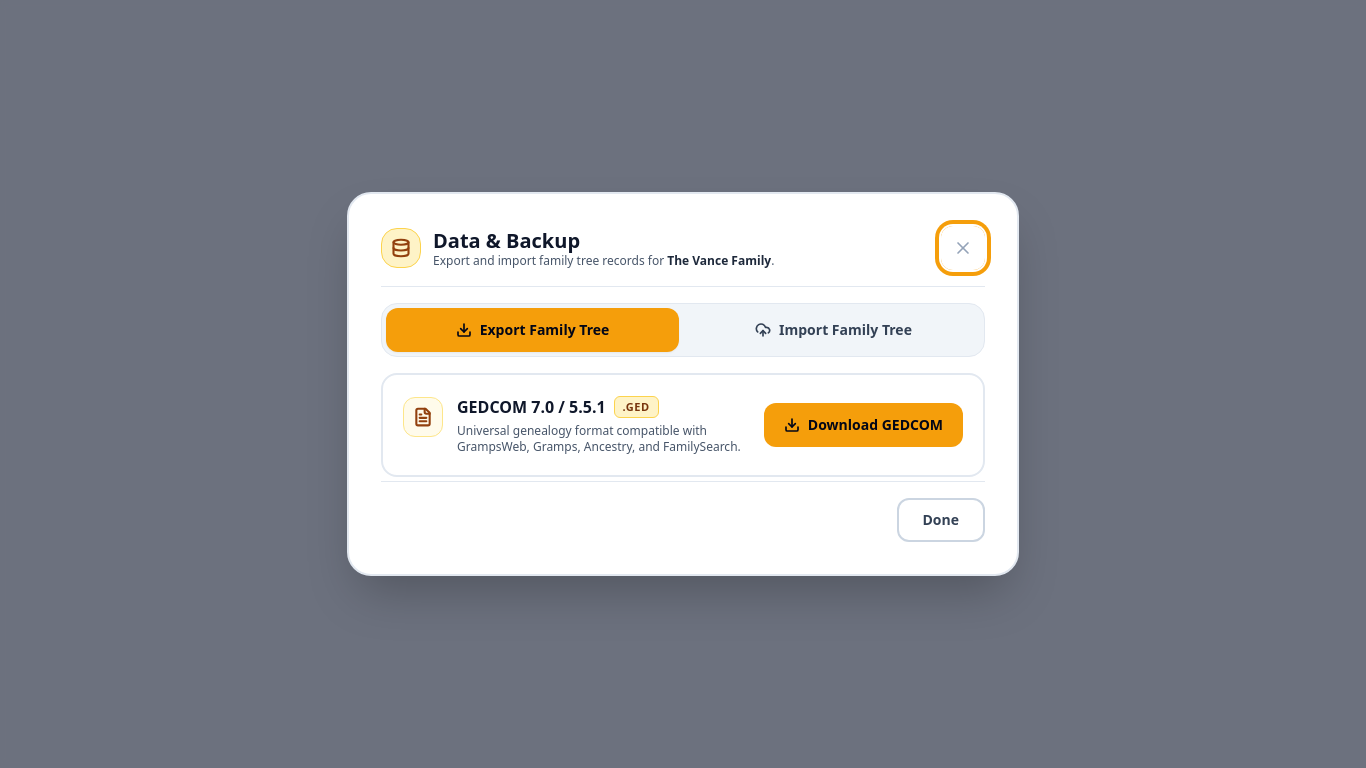
Test: DataBackupModal › displays error message if export fails
The image size is (1366, 768).
Click the button "Download GEDCOM".
click(863, 425)  # box 764,403 -> 963,447
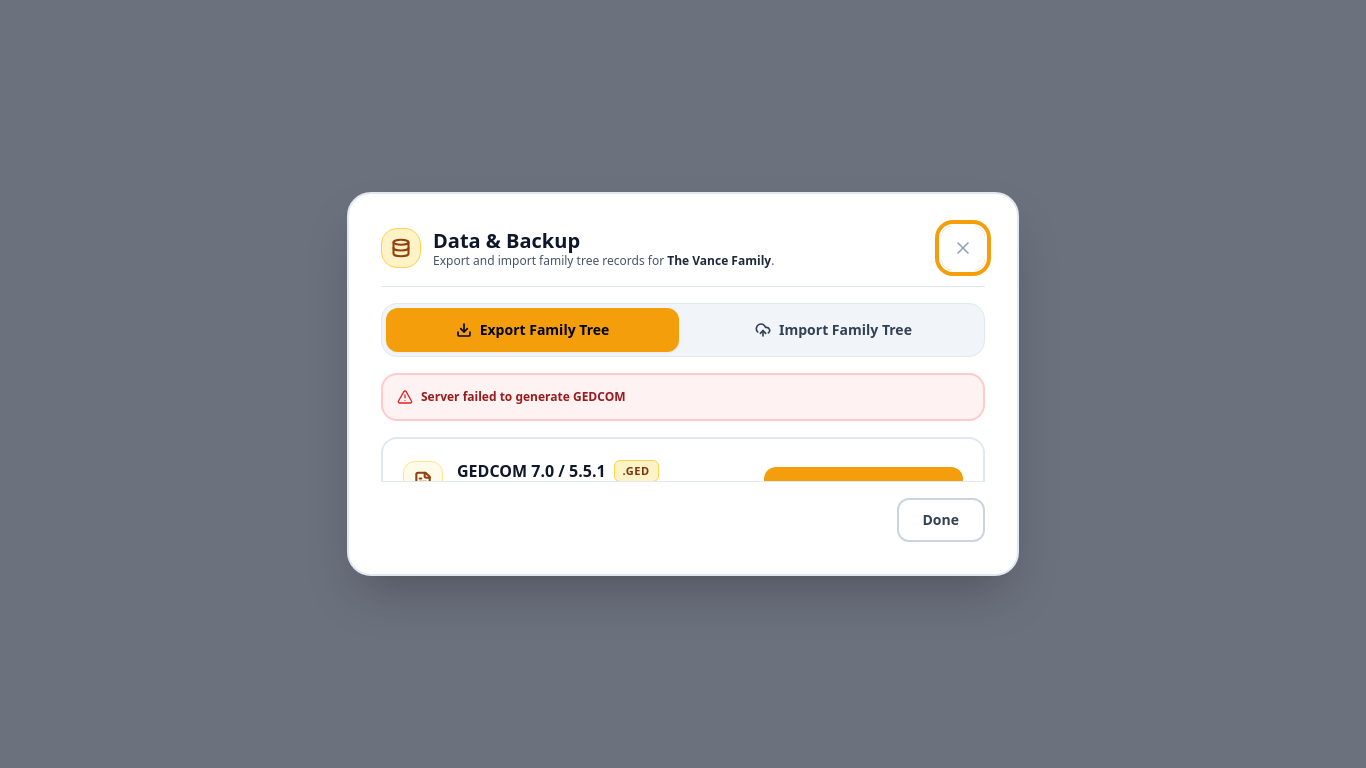
Result: the message reads "Server failed to generate GEDCOM" at 421,388 -> 626,405
